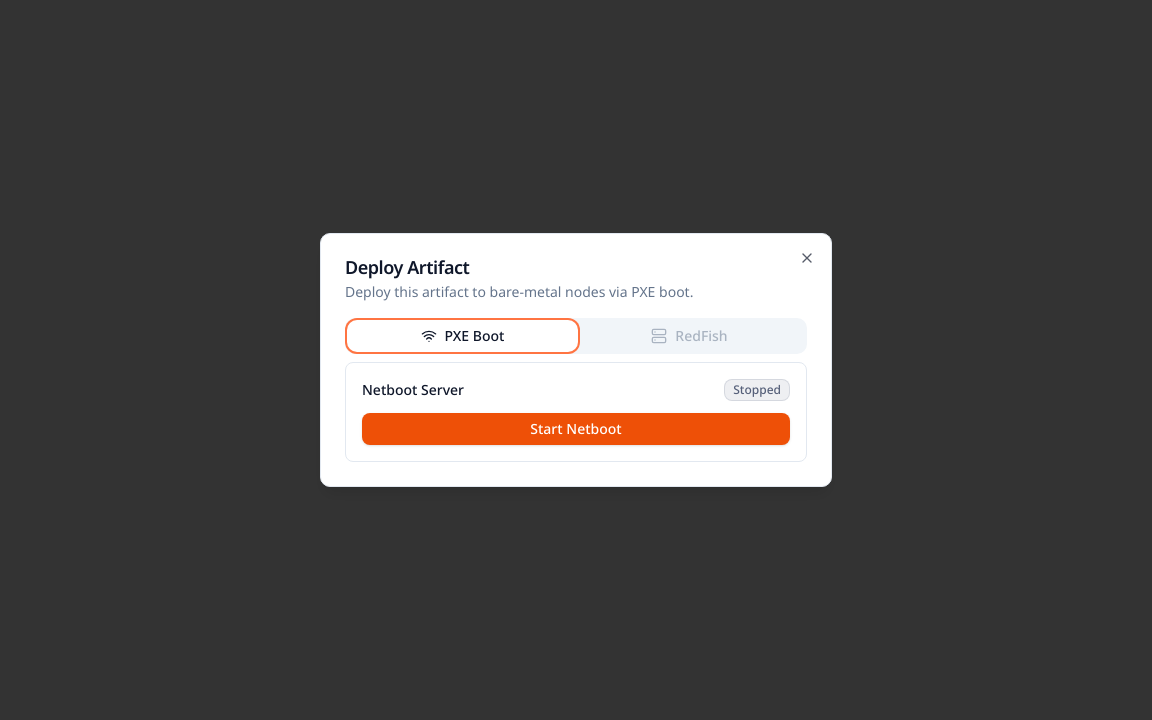
it: DeployDialog methods › shows the reason the server gives when netboot cannot start
This screenshot has width=1152, height=720.
Click the button "Start Netboot": click(576, 429) [362,413,790,445]
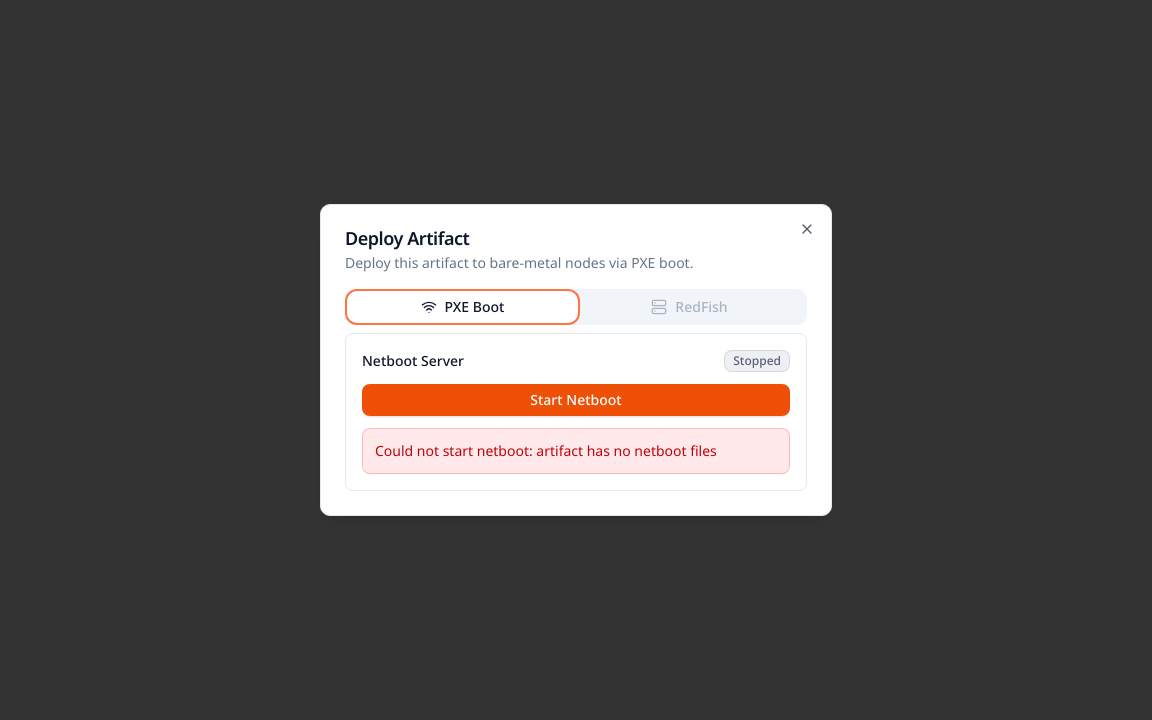
Expected: the text "Could not start netboot: artifact has no netboot files" is shown, [362,428,790,474]
